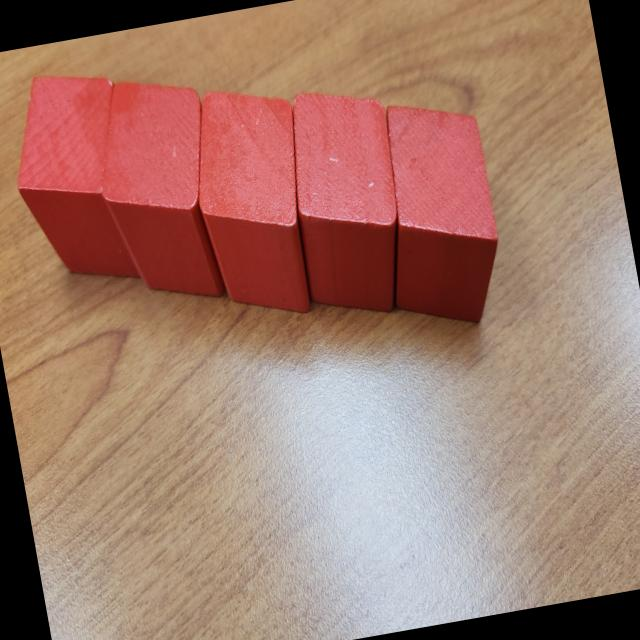red: (178, 76, 328, 329), (359, 90, 512, 338), (82, 69, 234, 314), (273, 77, 420, 325), (0, 63, 150, 298)
